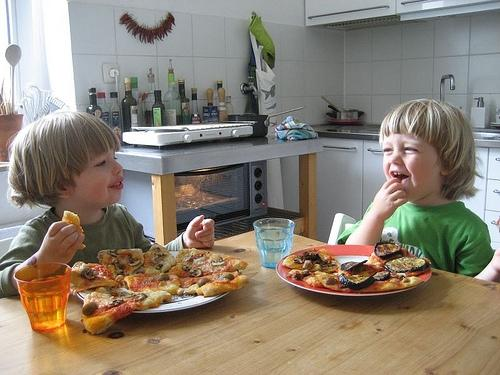eggplant: (383, 256, 430, 274), (339, 273, 375, 290), (374, 242, 401, 259), (340, 260, 368, 271), (372, 270, 390, 281)
